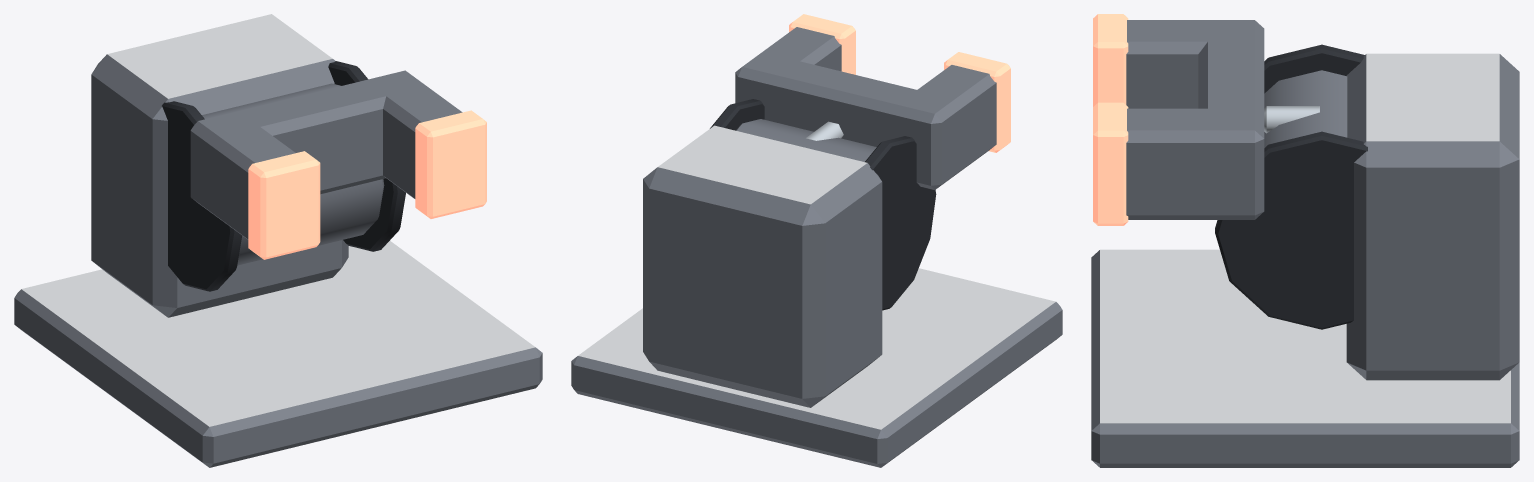
File: R4X_MagneticGrapple_LOD1.fbx
3 renders of one model, left to right at view 1: azimuth 30°, elevation 25°; view 2: azimuth 150°, elevation 25°; view 3: azimuth 270°, elevation 25°, orthographic. The views are drawn at different scales.
Parts seen in each view (by area): view 1: R4X_MagneticGrapple_LOD1; view 2: R4X_MagneticGrapple_LOD1; view 3: R4X_MagneticGrapple_LOD1.
Part boxes in pixels (x1,y1,x2,y2): R4X_MagneticGrapple_LOD1: [14, 14, 542, 467]; R4X_MagneticGrapple_LOD1: [571, 14, 1062, 467]; R4X_MagneticGrapple_LOD1: [1091, 14, 1519, 467].
Size of the model in its own units: 0.52 by 0.414 by 0.52.
